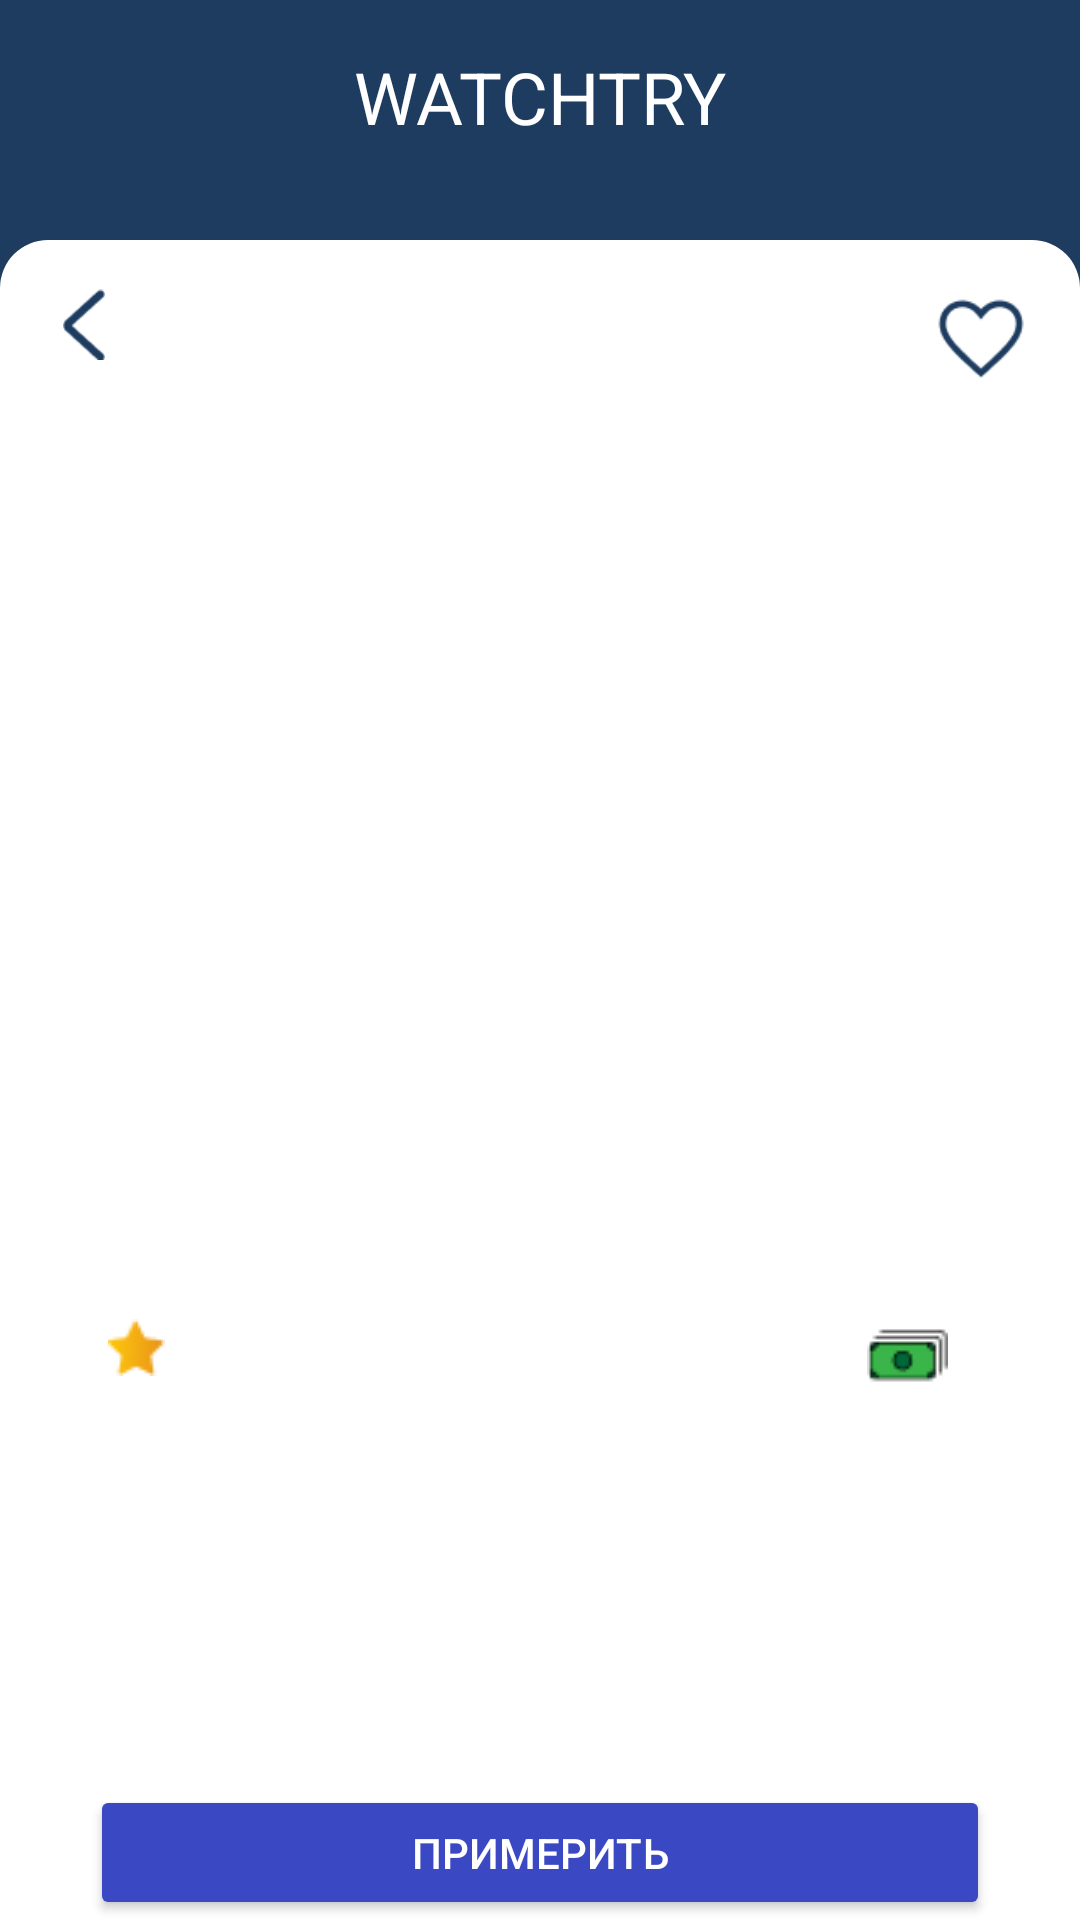

Icons on this 1080×1920 Android screen, each with the point to tap as [x,y]:
arrowback: [84,324]
heart: [981,338]
